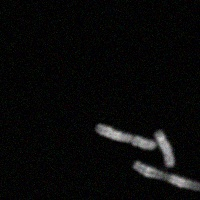chromosome: (133, 162, 200, 192), (95, 124, 156, 150), (154, 129, 174, 166)
